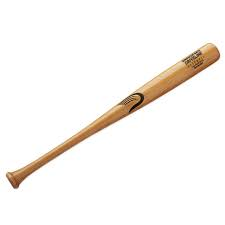baseball bat: (7, 43, 222, 188)
